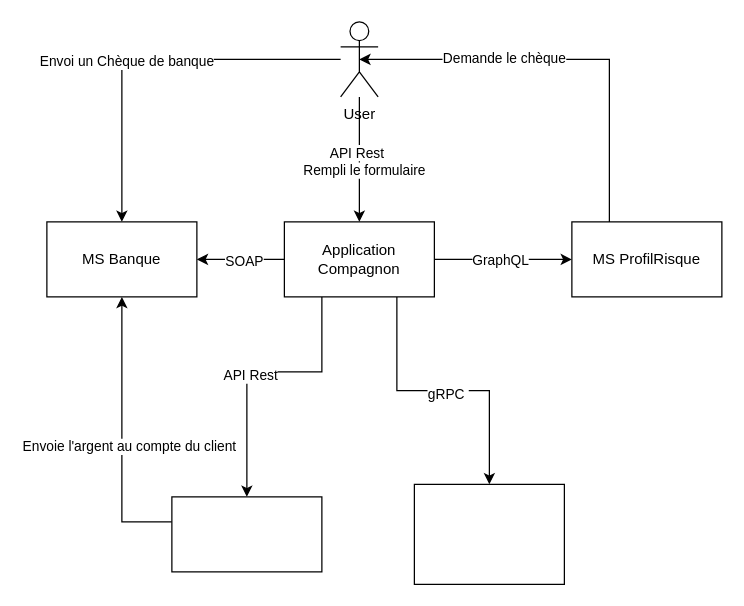
Some shapes in this 744 by 606 pixel diagram are drawn without their labels. Each missing label, with the centre of its shape:
"MS Fournisseur" goes at point (246, 534).
"MS MontantMax" goes at point (488, 533).
